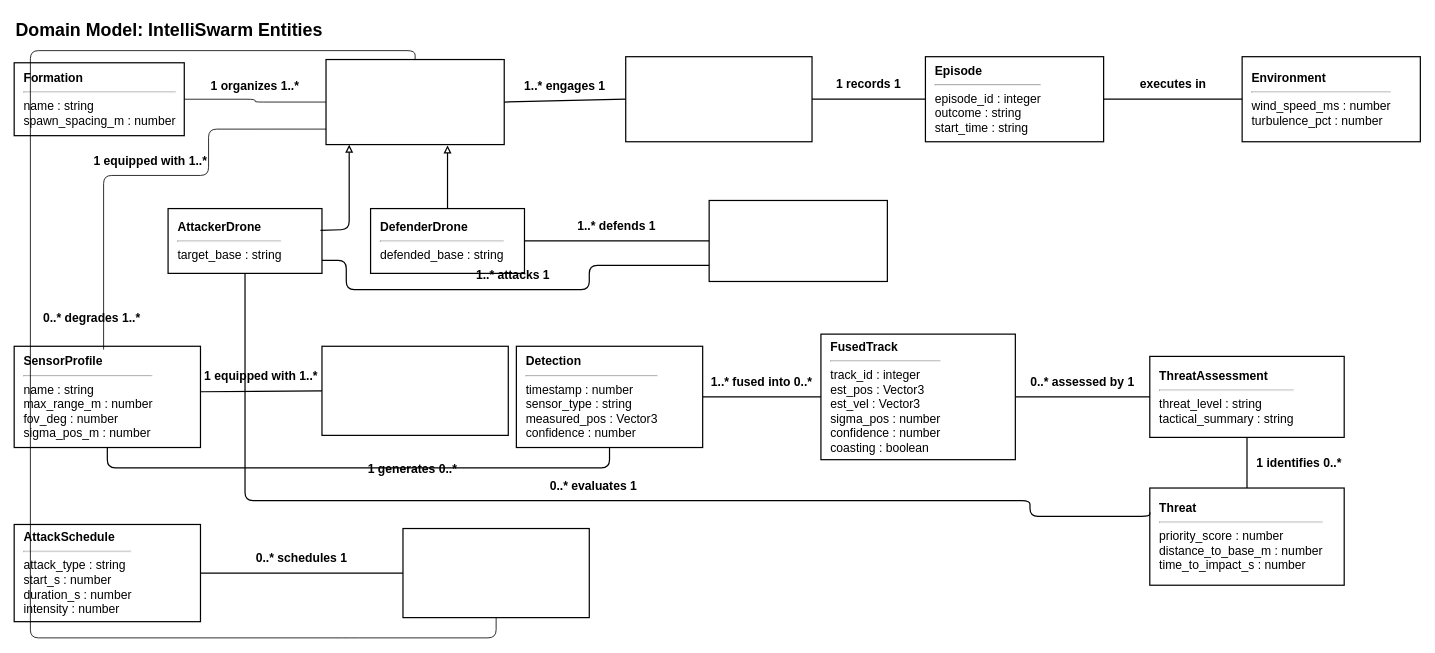
This 1435x653 diagram has some shape labels left out. Here are the shapes that lost their labels. From the top down, the centre of each, then its label:
point (414, 102): Drone callsign : string role : string armed : boolean
point (718, 99): Mission mission_id : string status : string max_duration_s : number
point (798, 241): Base name : string position_ned : Vector3 radius_m : number
point (415, 390): GroundObserver observer_id : "g1" surveyed_pos : Vector3 is_fixed : boolean
point (496, 573): CyberAttack attack_type : string is_active : boolean degradation_factor : number
